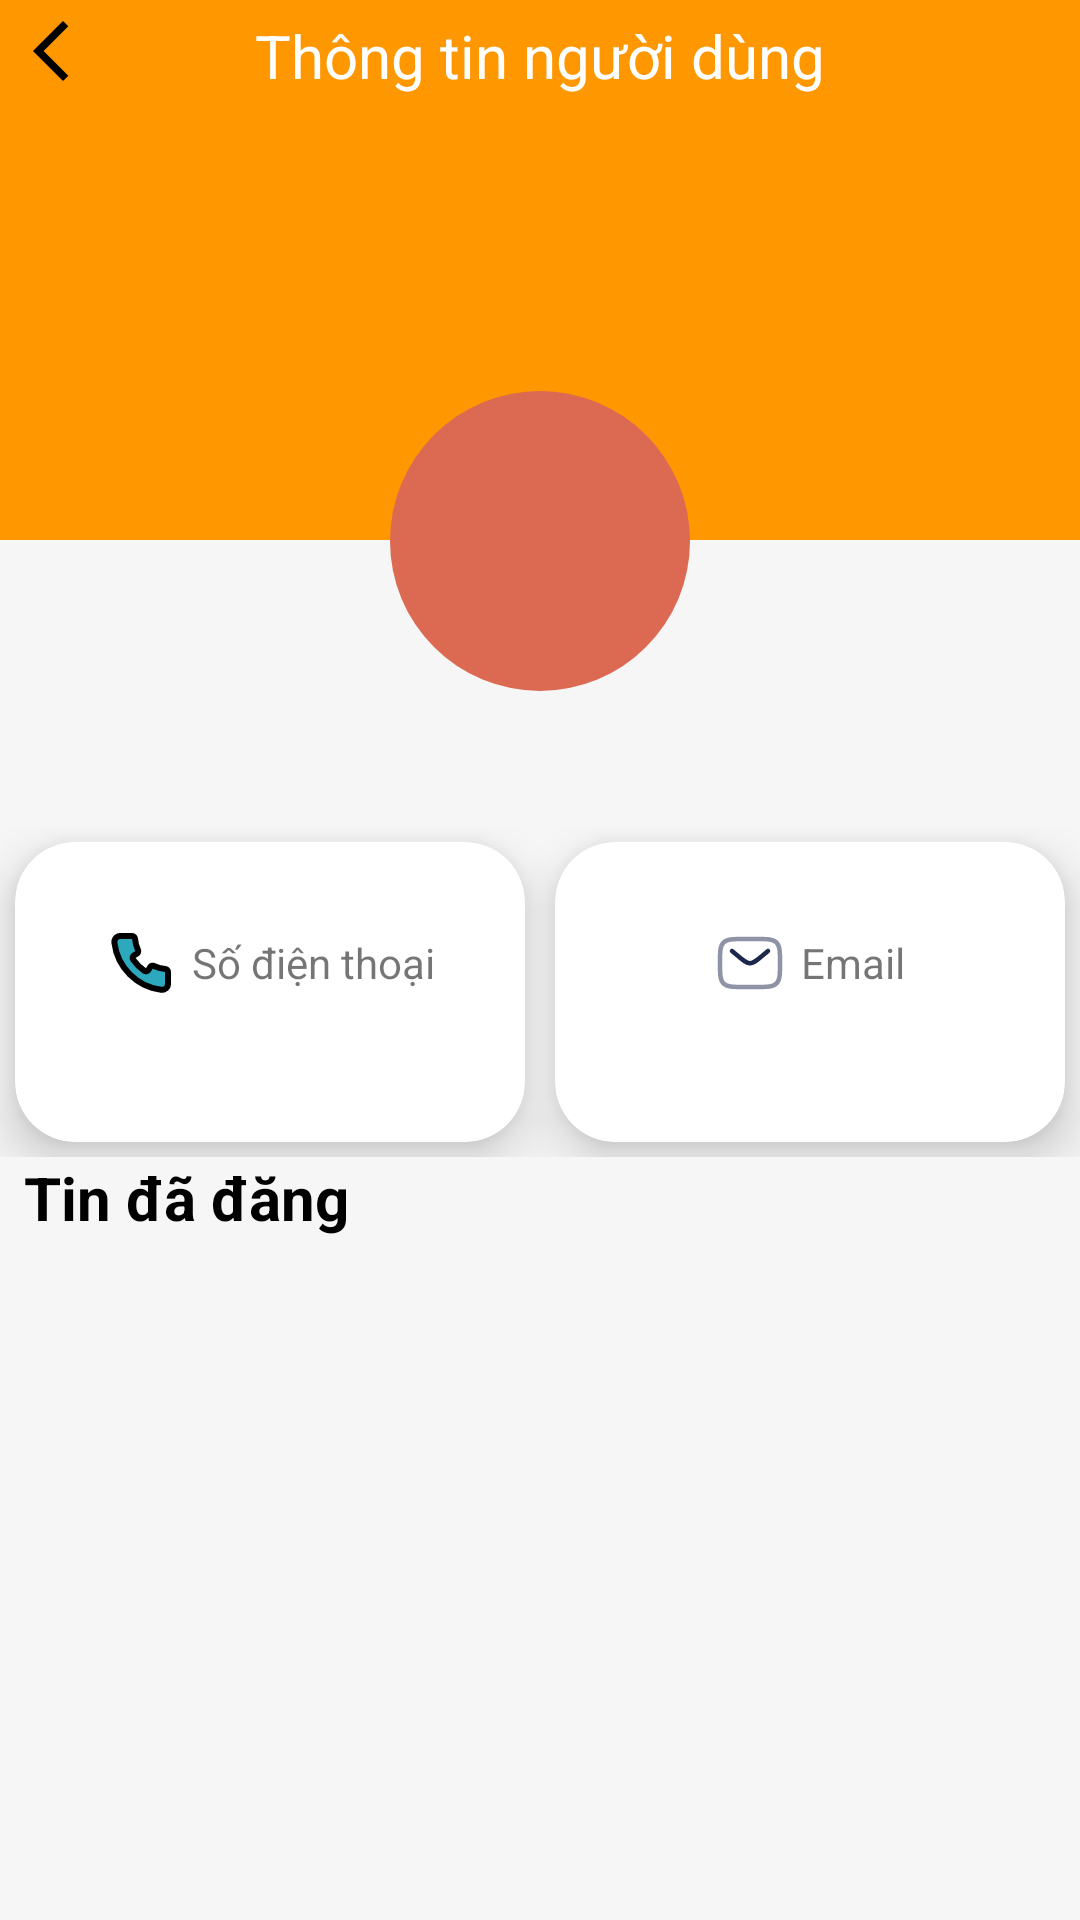

Named icons in this screenshot (1080px×1920px) and their centers, point (x, y):
back: point (50, 51)
